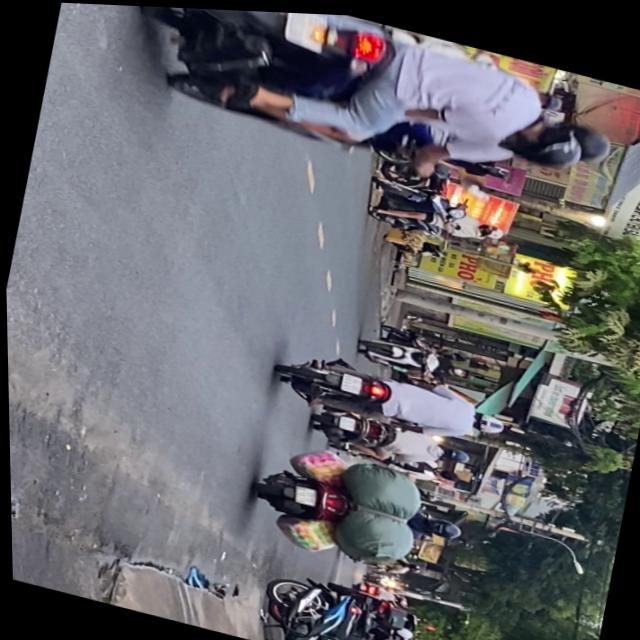helmet: (485, 101, 593, 173), (425, 510, 462, 536), (471, 405, 506, 431), (438, 439, 470, 461), (478, 216, 505, 234), (451, 360, 474, 375)
licenseplate: (120, 4, 630, 214), (238, 430, 472, 583), (270, 338, 512, 448), (304, 397, 473, 477), (362, 170, 511, 251), (352, 326, 477, 385)
nohelmet: (284, 10, 330, 47), (339, 368, 362, 390), (292, 482, 316, 503), (337, 411, 355, 428)
